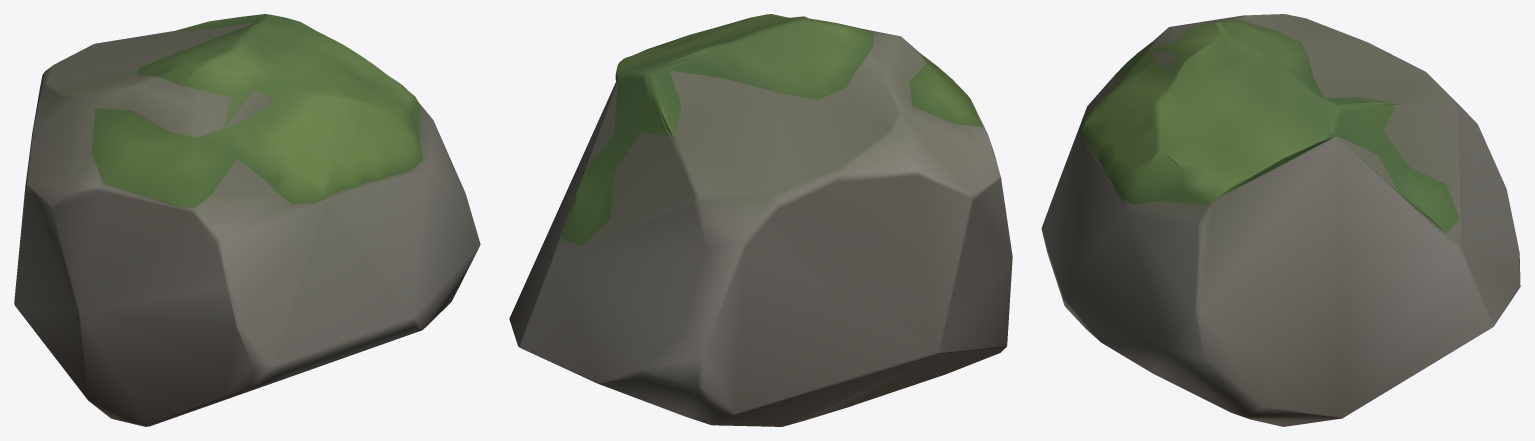
Rendered from boulder_a.glb.
3 renders of one model, left to right at view 1: azimuth 30°, elevation 25°; view 2: azimuth 150°, elevation 25°; view 3: azimuth 270°, elevation 25°, orthographic. The views are drawn at different scales.
Visible parts, largest first — view 1: Boulder_a; view 2: Boulder_a; view 3: Boulder_a.
Part boxes in pixels (bbox=[...]): Boulder_a: bbox=[14, 14, 480, 426]; Boulder_a: bbox=[509, 14, 1012, 426]; Boulder_a: bbox=[1041, 14, 1520, 426].
Bounding box in the file's own units: 0.9114 × 0.7578 × 0.946.
